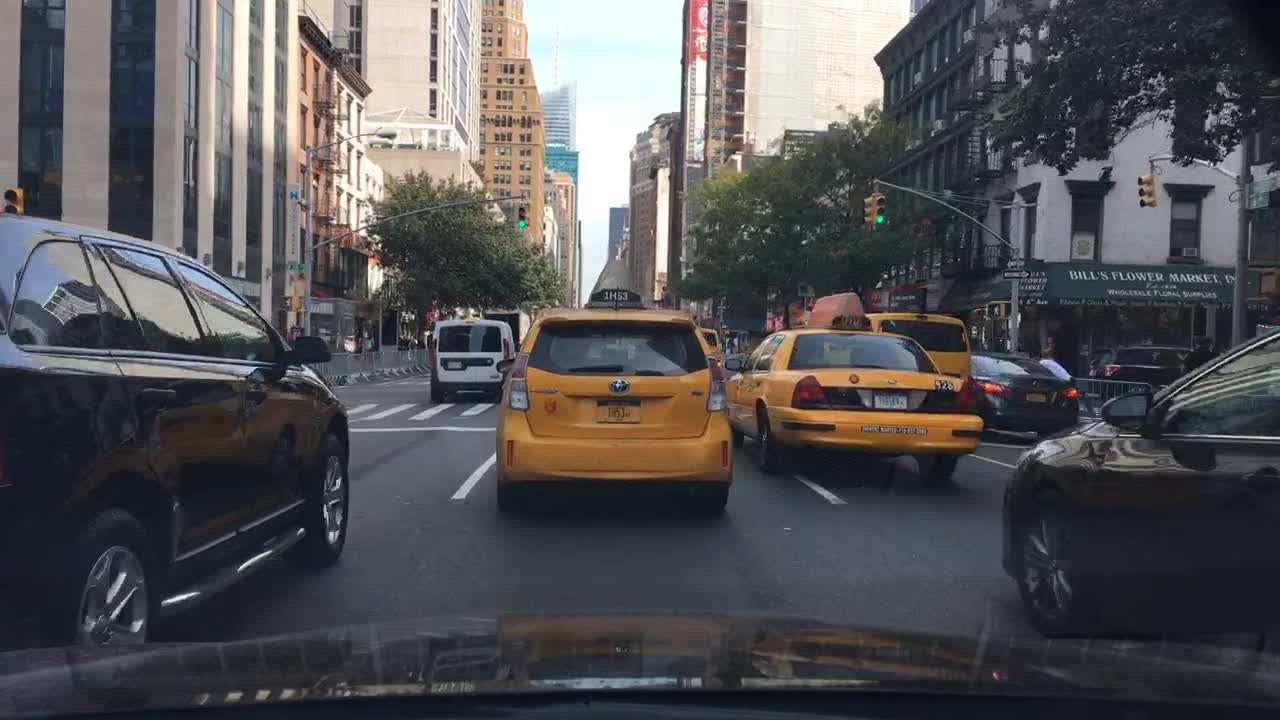car: (1, 212, 355, 651), (996, 324, 1277, 641), (490, 248, 735, 514), (724, 288, 986, 487), (970, 346, 1081, 440), (428, 316, 520, 405), (1084, 341, 1203, 402), (700, 326, 727, 393), (428, 651, 440, 653)
person: (1183, 335, 1222, 373)
traffic light: (1, 186, 25, 217), (1137, 173, 1157, 208), (873, 194, 887, 224), (278, 295, 301, 310), (861, 195, 872, 223), (517, 205, 525, 228)
traffic sign: (1245, 176, 1279, 196), (1242, 195, 1269, 209), (287, 260, 306, 271)
truck: (472, 308, 524, 352)
